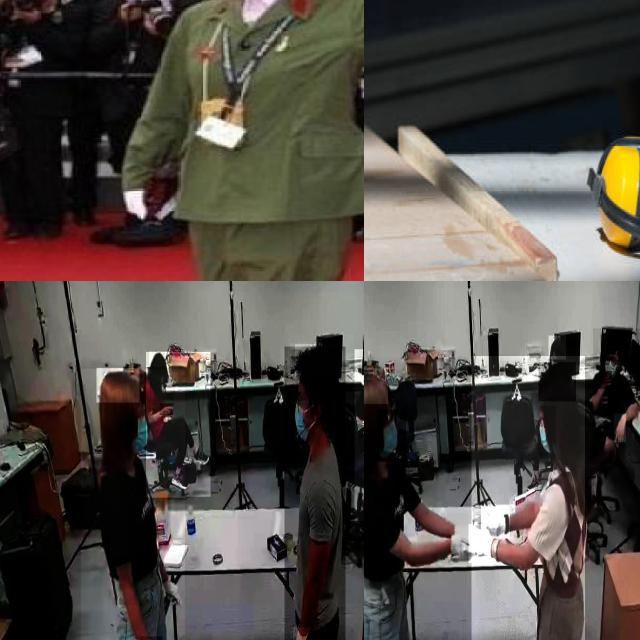Ear-protection: (583, 124, 640, 281)
face_mask: (376, 409, 406, 462), (128, 414, 154, 471), (286, 401, 312, 452), (538, 406, 556, 459), (600, 352, 620, 383)
hand_glove: (447, 513, 469, 572), (468, 524, 496, 564), (121, 186, 157, 217), (481, 504, 510, 538), (293, 627, 310, 640)
hand_noglove: (114, 3, 140, 20), (614, 414, 626, 443), (12, 7, 40, 19), (140, 13, 157, 32), (599, 371, 613, 390), (160, 403, 174, 416)
head_nohelmet: (96, 368, 140, 403), (538, 362, 576, 402), (295, 344, 338, 378), (364, 368, 388, 404), (548, 336, 566, 360), (600, 334, 622, 351), (149, 351, 167, 368)
person: (163, 0, 364, 281), (471, 356, 585, 640), (364, 357, 467, 640), (80, 368, 185, 640), (284, 346, 345, 640), (146, 352, 211, 498), (592, 328, 640, 465), (117, 0, 200, 74)
